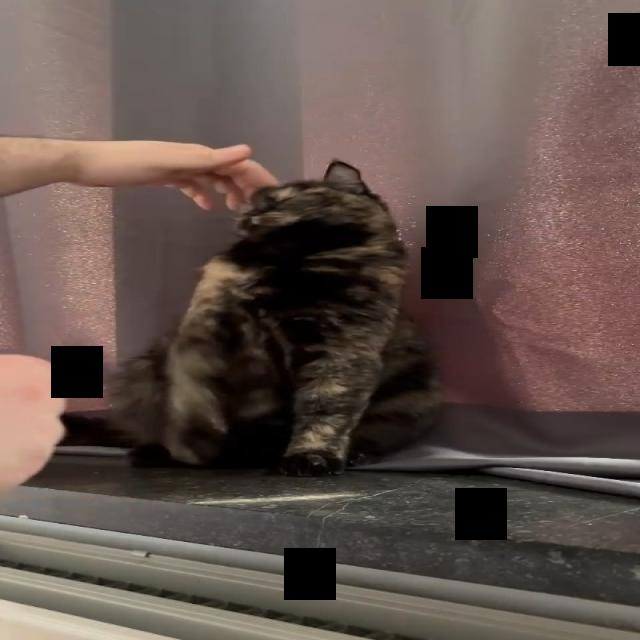authorized: (101, 158, 444, 477)
